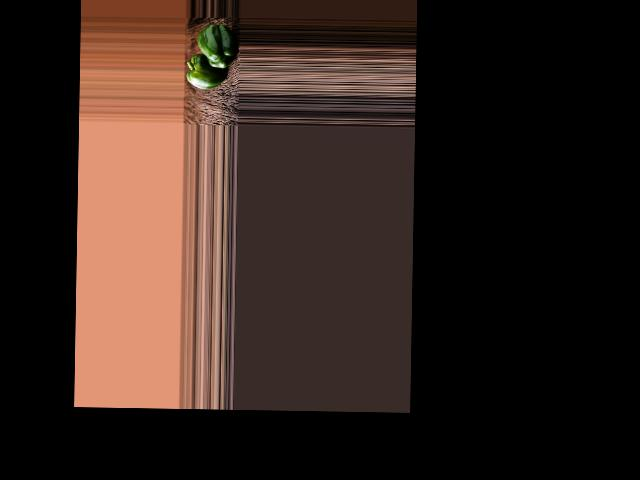bell_pepper: (196, 24, 234, 70)
